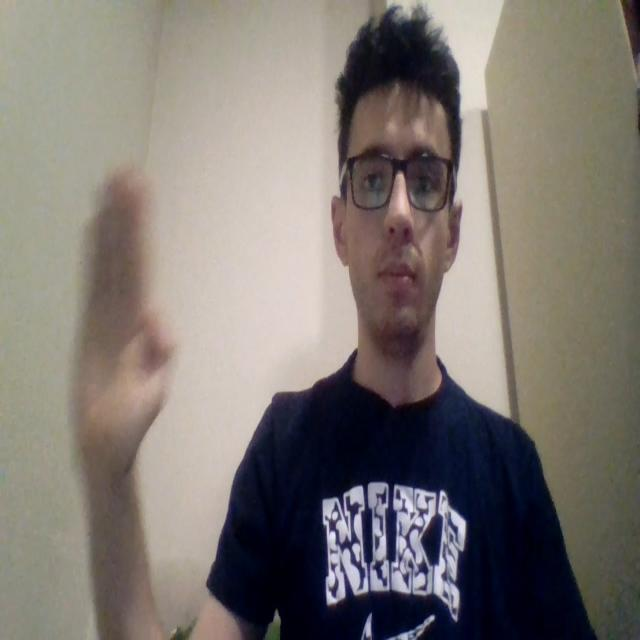hello: (70, 163, 176, 508)
